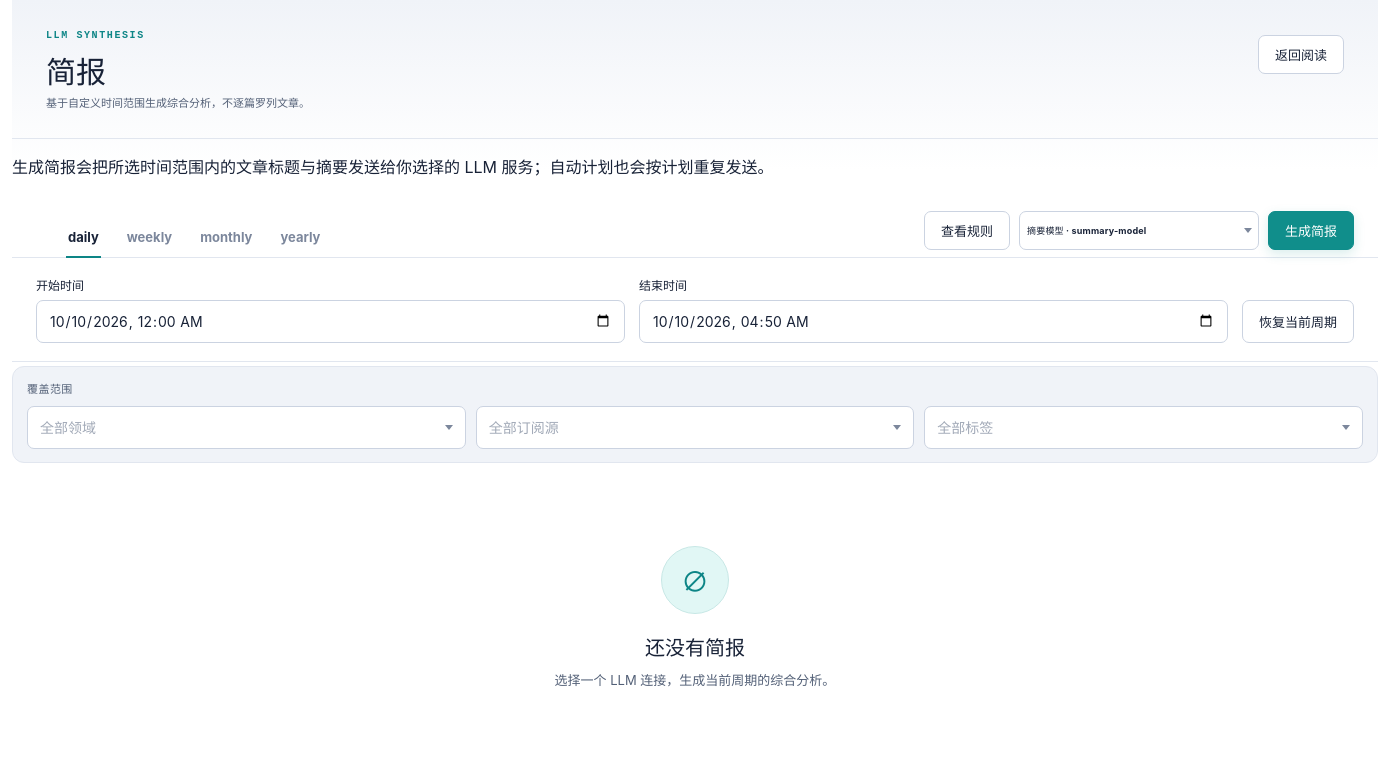
BriefWorkspace › generates with a compatible request key and binds the selected LLM
What coordinates should you click on to do the following:
click the button "生成简报"
I would click on:
 (1311, 230)
Its box is [1268,211,1354,250].
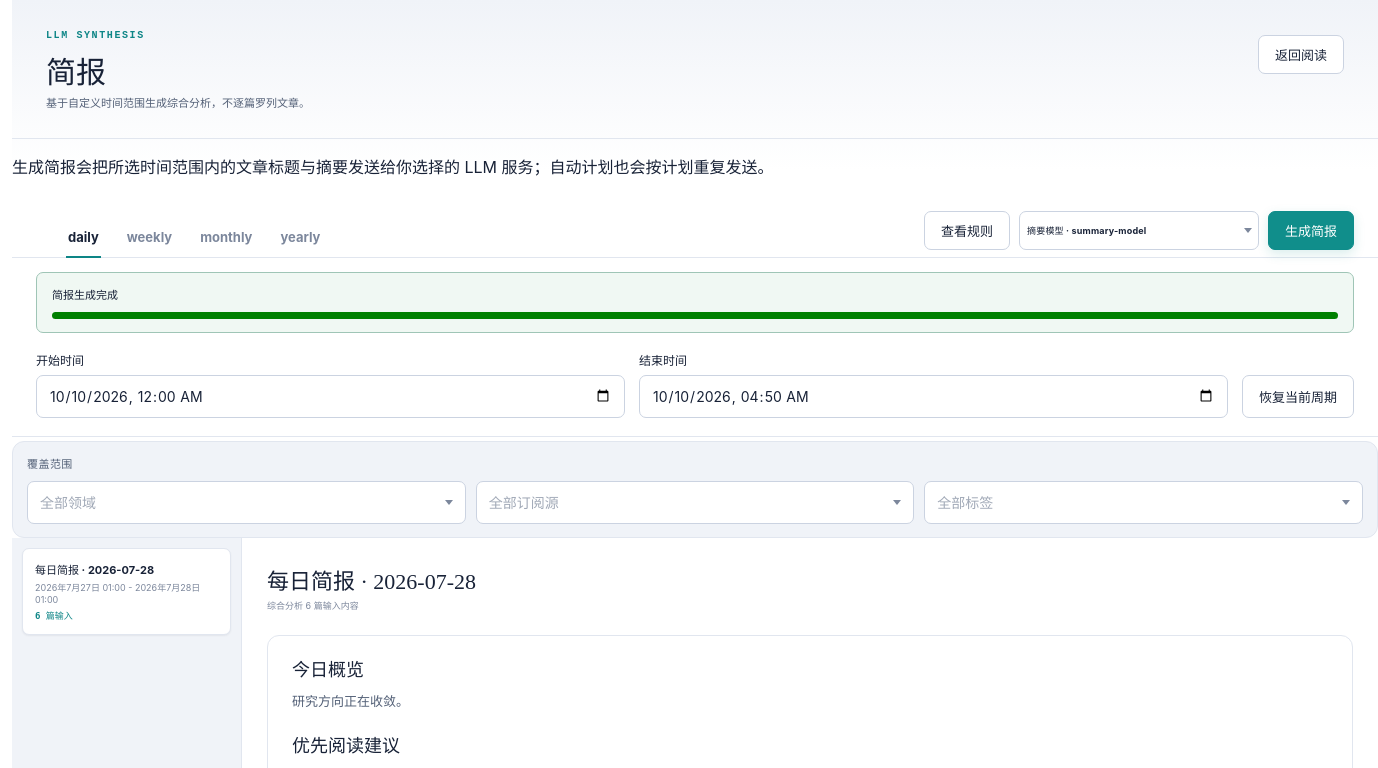
Check: the text "研究方向正在收敛。" is shown, box [292,694,409,709]
